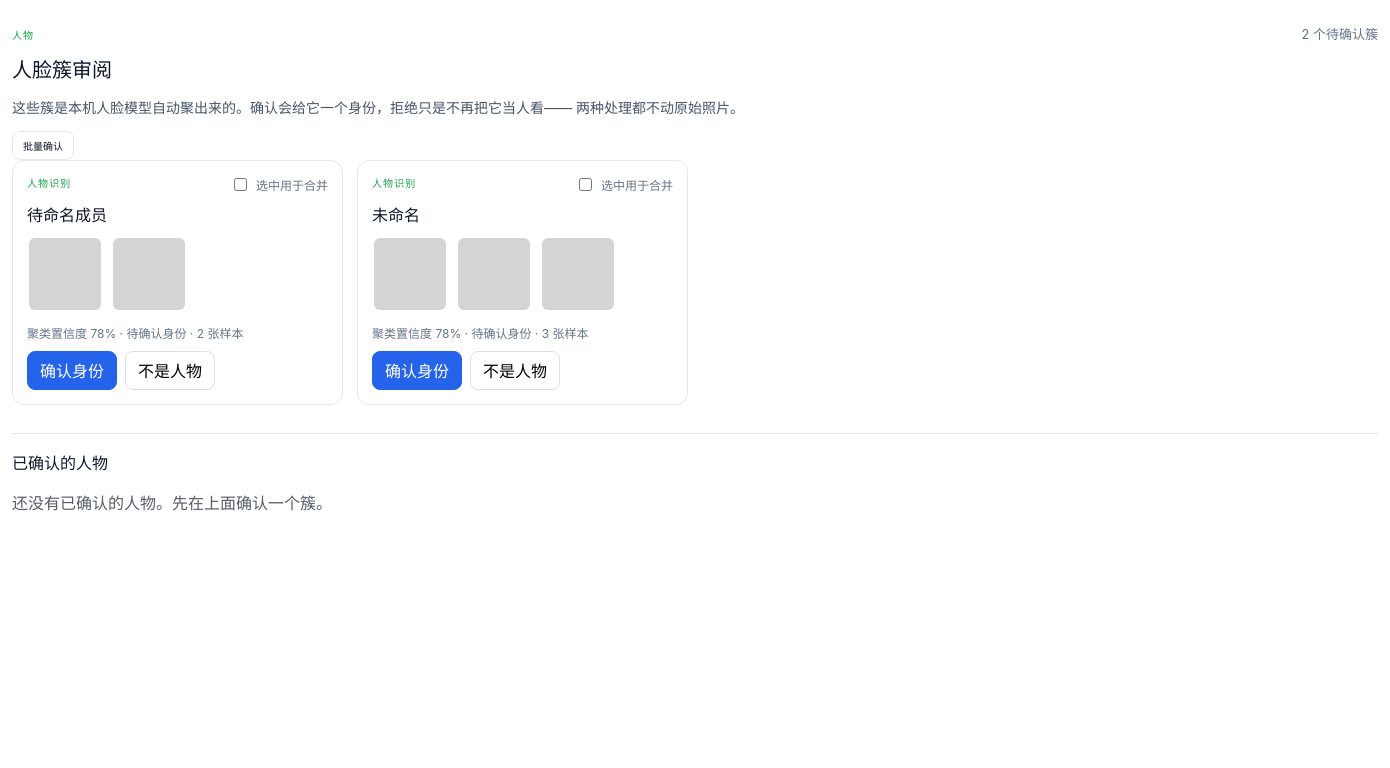
人脸簇审阅页 › 选中两个簇后能在合并面板里指定目标，再合并
The width and height of the screenshot is (1390, 768).
Step 1. Click the checkbox named "选中 待命名成员 用于合并" → (240, 184), box [234,178,247,191]
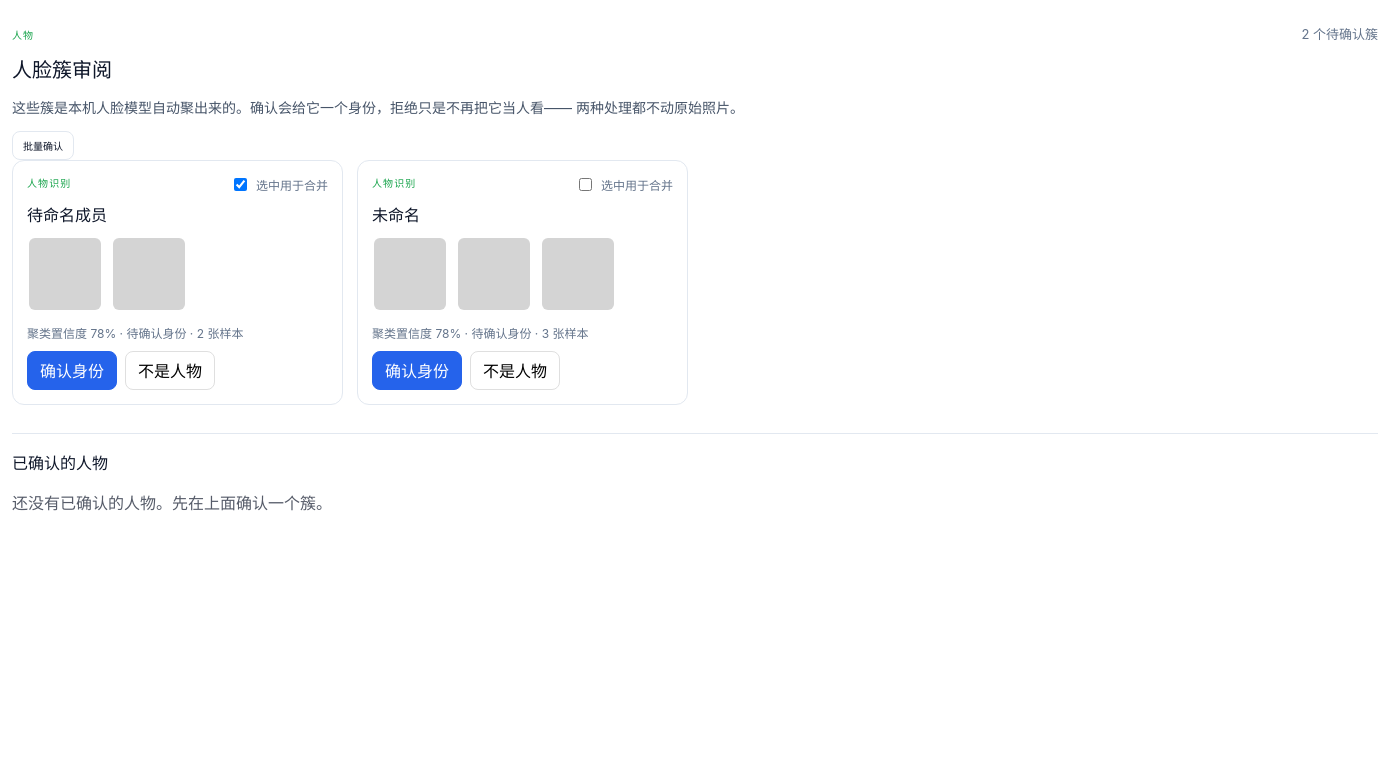
Step 2. Click the checkbox named "选中 未命名 用于合并" → (586, 184), box [579,178,592,191]
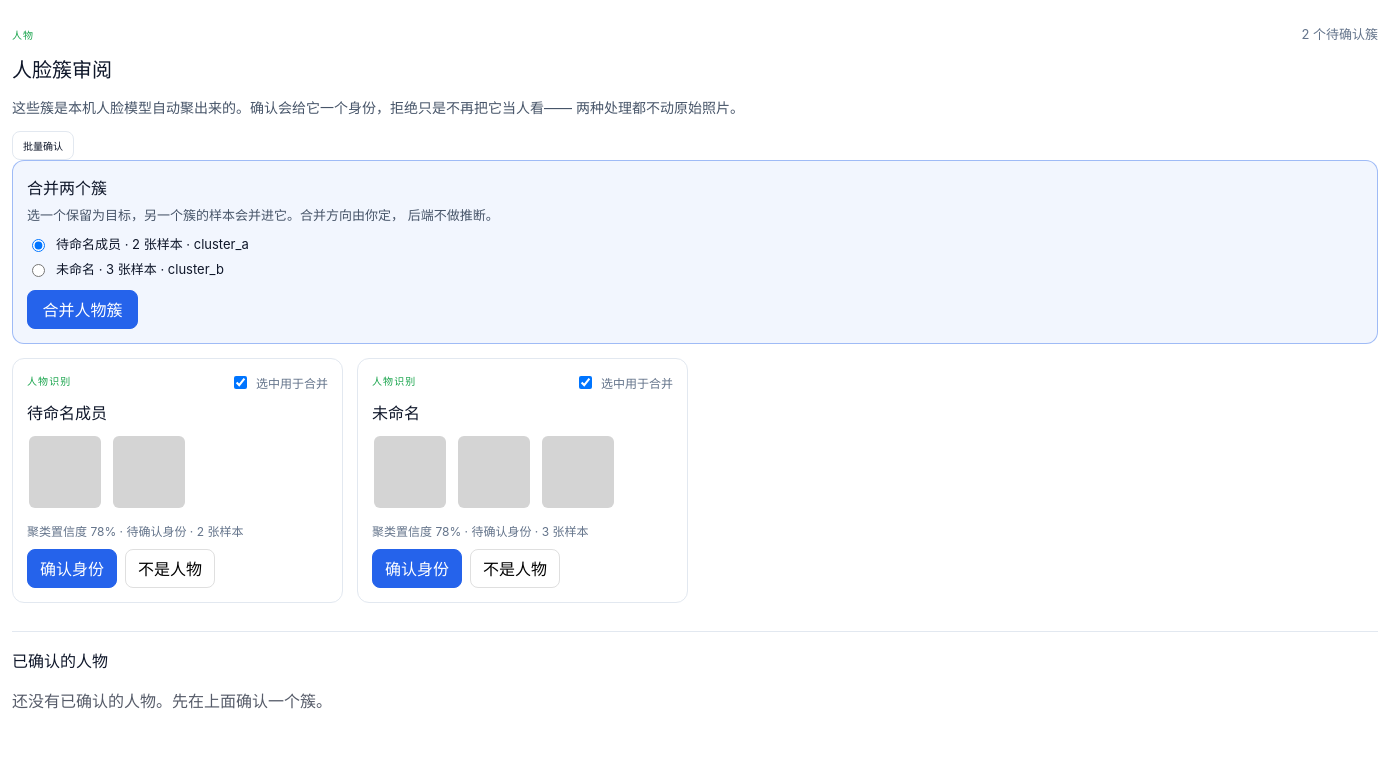
Expected: the radio button labelled "待命名成员 · 2 张样本 · cluster_a" is checked, [32,238,45,252]
Step 3. Click the radio button labelled "未命名 · 3 张样本 · cluster_b" → (38, 270), box [32,264,45,276]
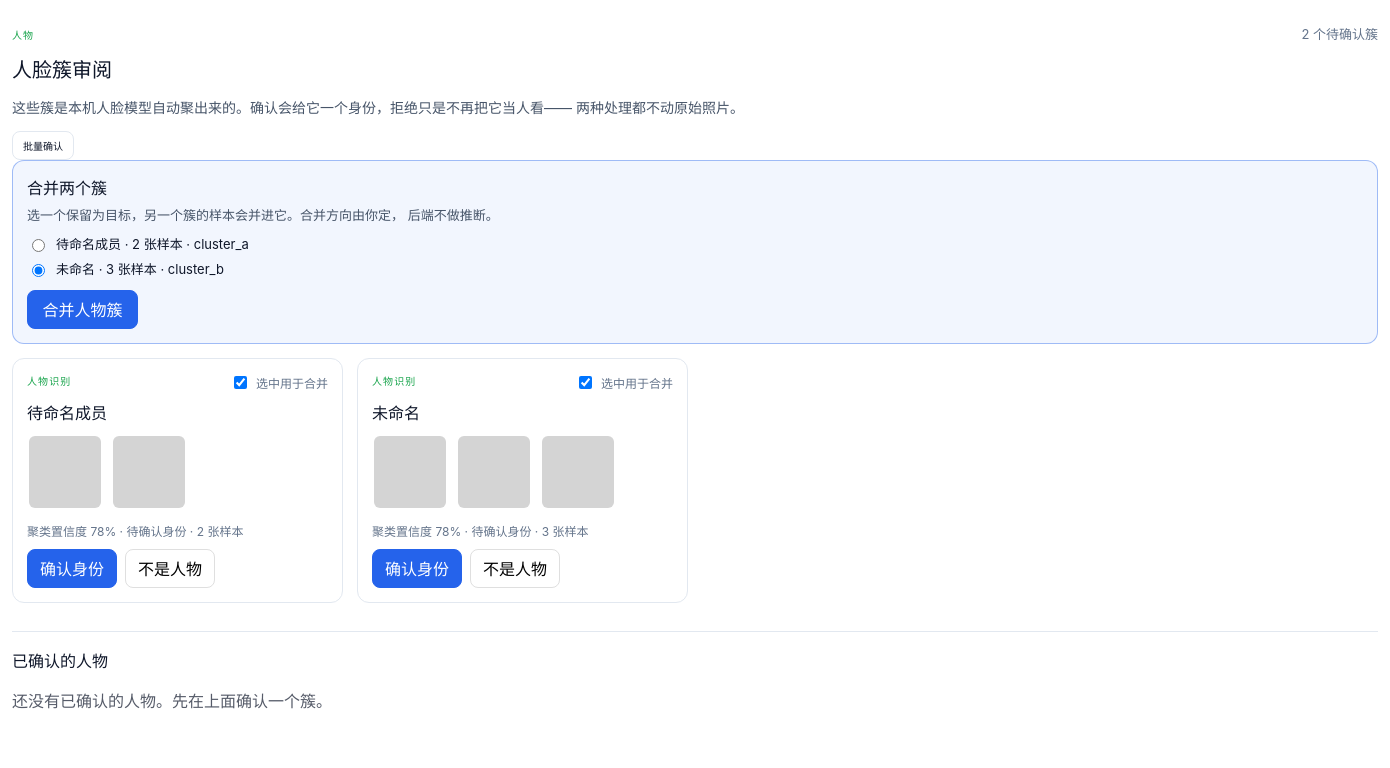
Step 4. Click the button "合并人物簇" → (82, 309), box [27,290,138,329]
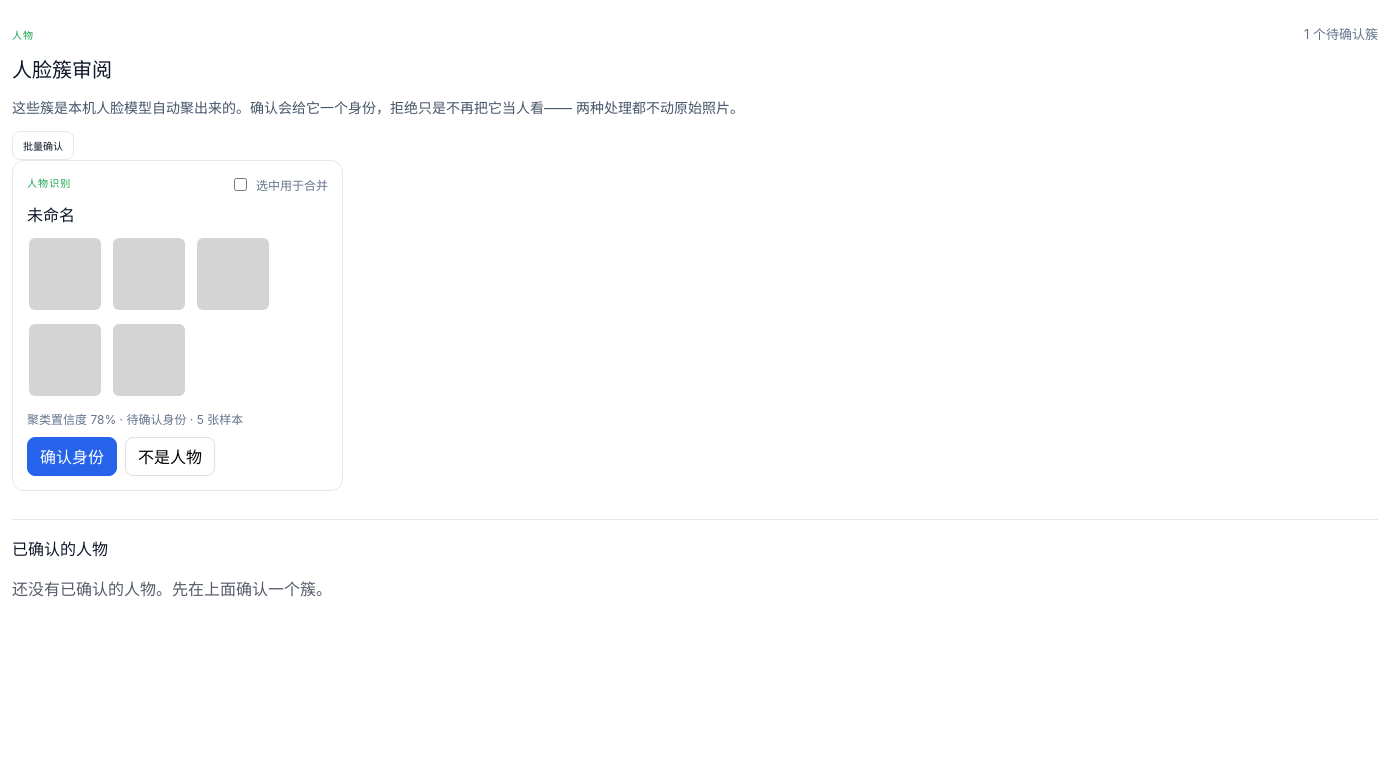
Expected: the button "合并人物簇" is gone
Expected: the text "聚类置信度 78% · 待确认身份 · 5 张样本" is shown, [27,412,243,427]
